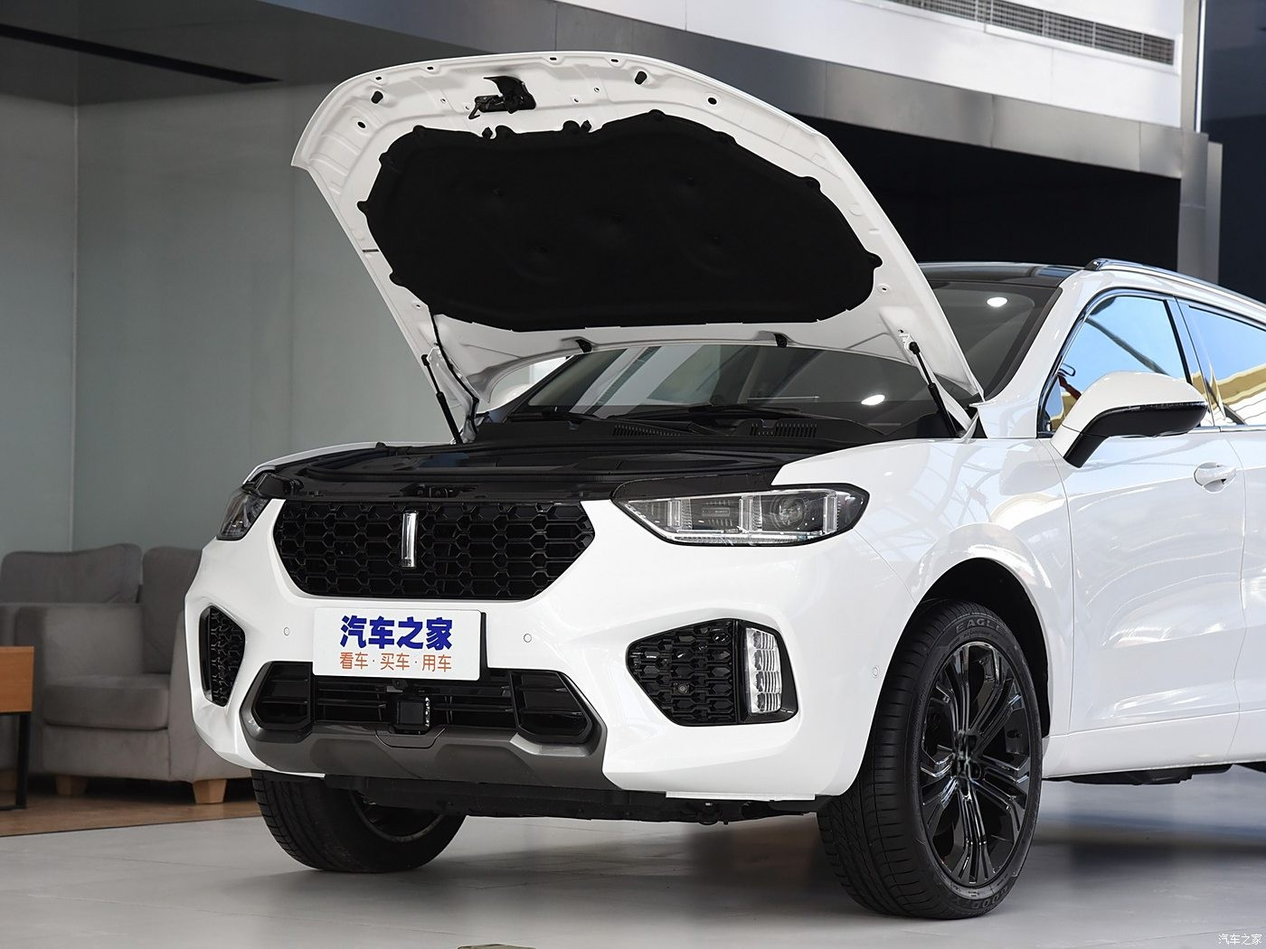WEY: (402, 513, 413, 566)
